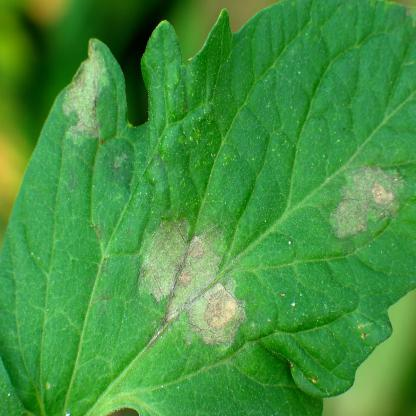tomato leaf late blight: (12, 7, 414, 408)
